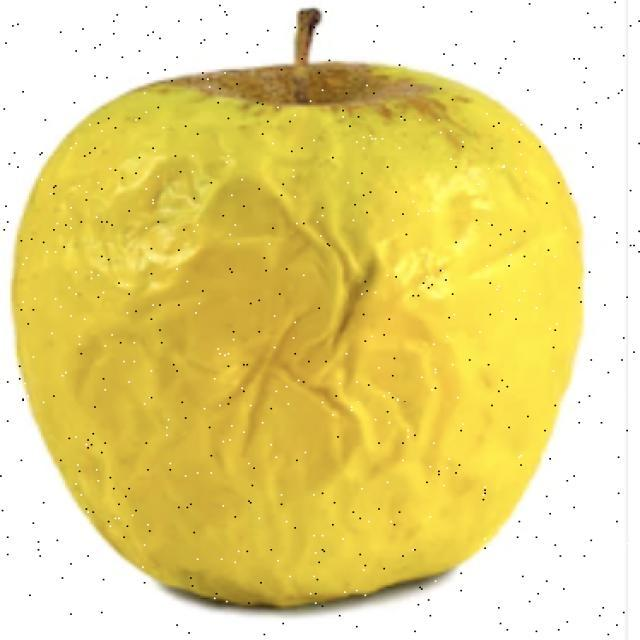Rotten: (45, 47, 582, 613)
